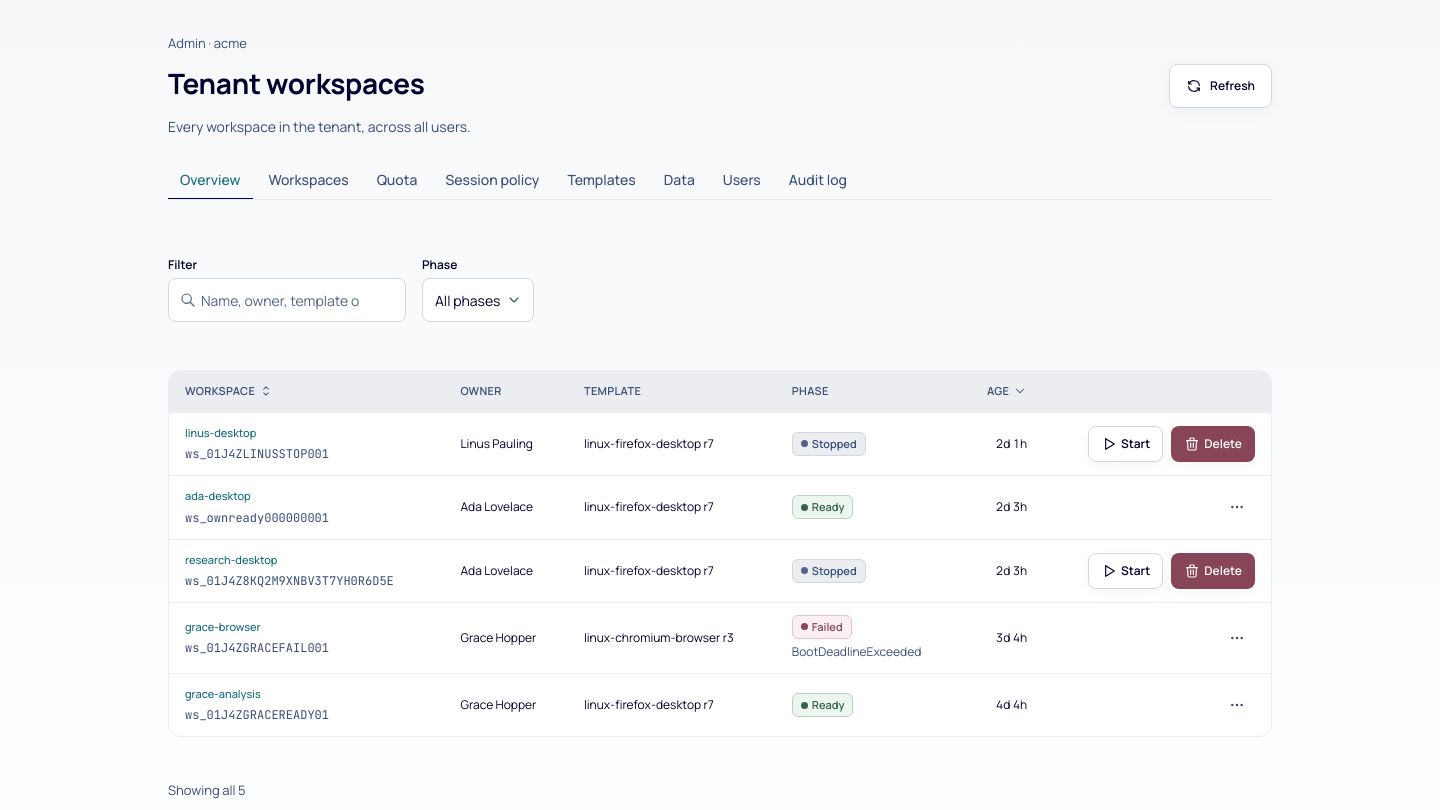
Scenario: workspaces: admin actions › offers Connect in the row menu only for the viewer's own workspace
This screenshot has width=1440, height=810.
What coordinates should you click on to do the following:
click the button named "Actions for ada-desktop"
I would click on:
 (1237, 507)
Its box is [1219, 489, 1255, 525].
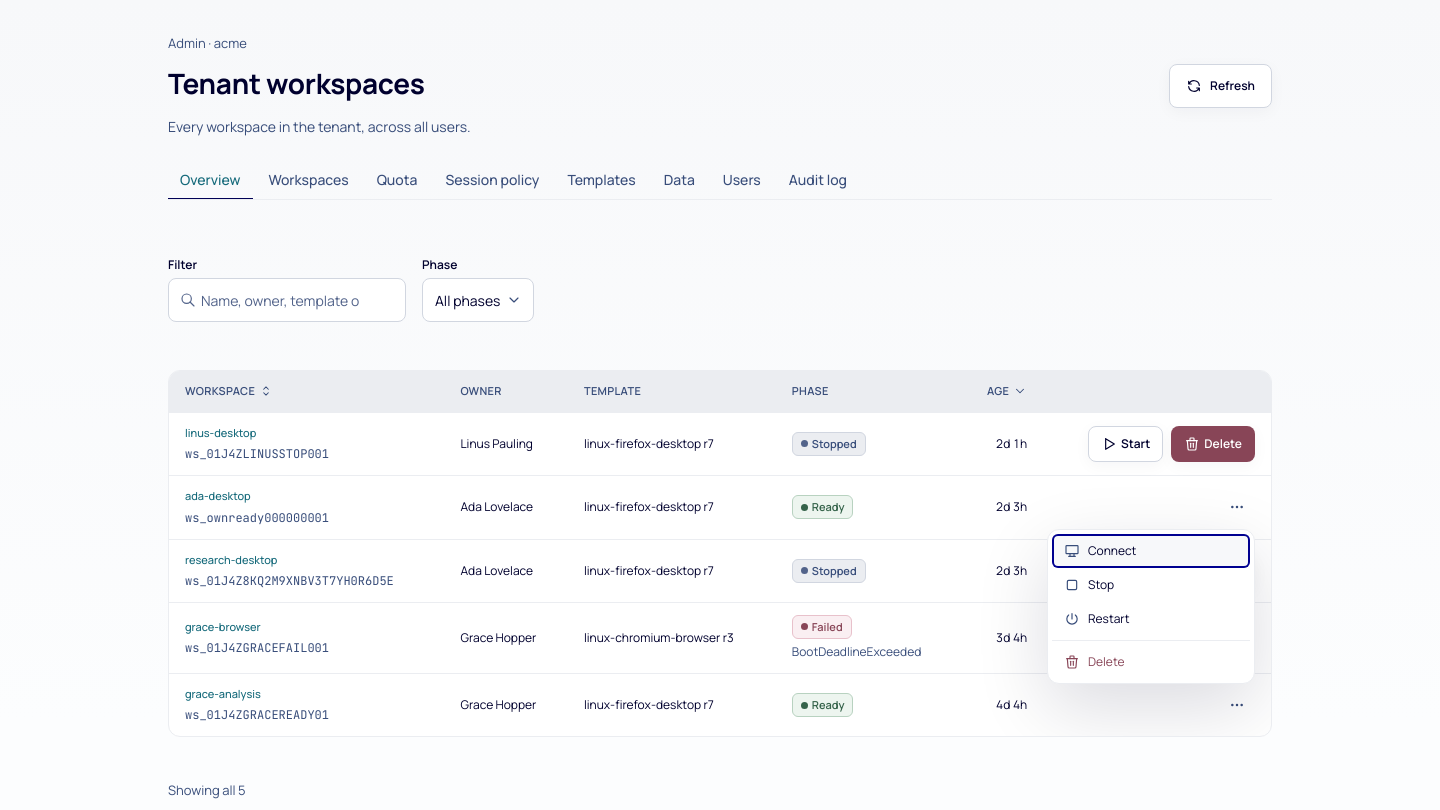
Expected: the menu item "Connect" is shown, [1052, 534, 1250, 568]
